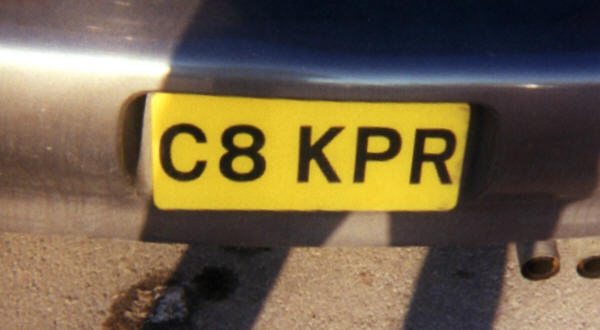license_plate: (152, 89, 470, 209)
